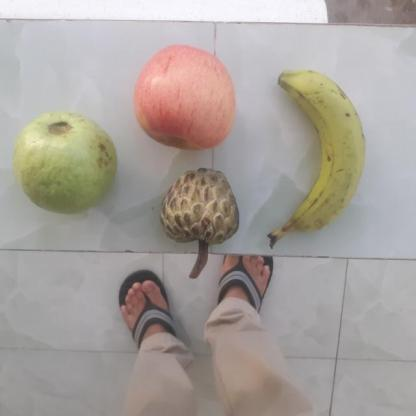annona: (155, 166, 239, 244)
apple: (130, 45, 238, 148)
banana: (268, 72, 366, 235)
guava: (9, 112, 115, 210)
